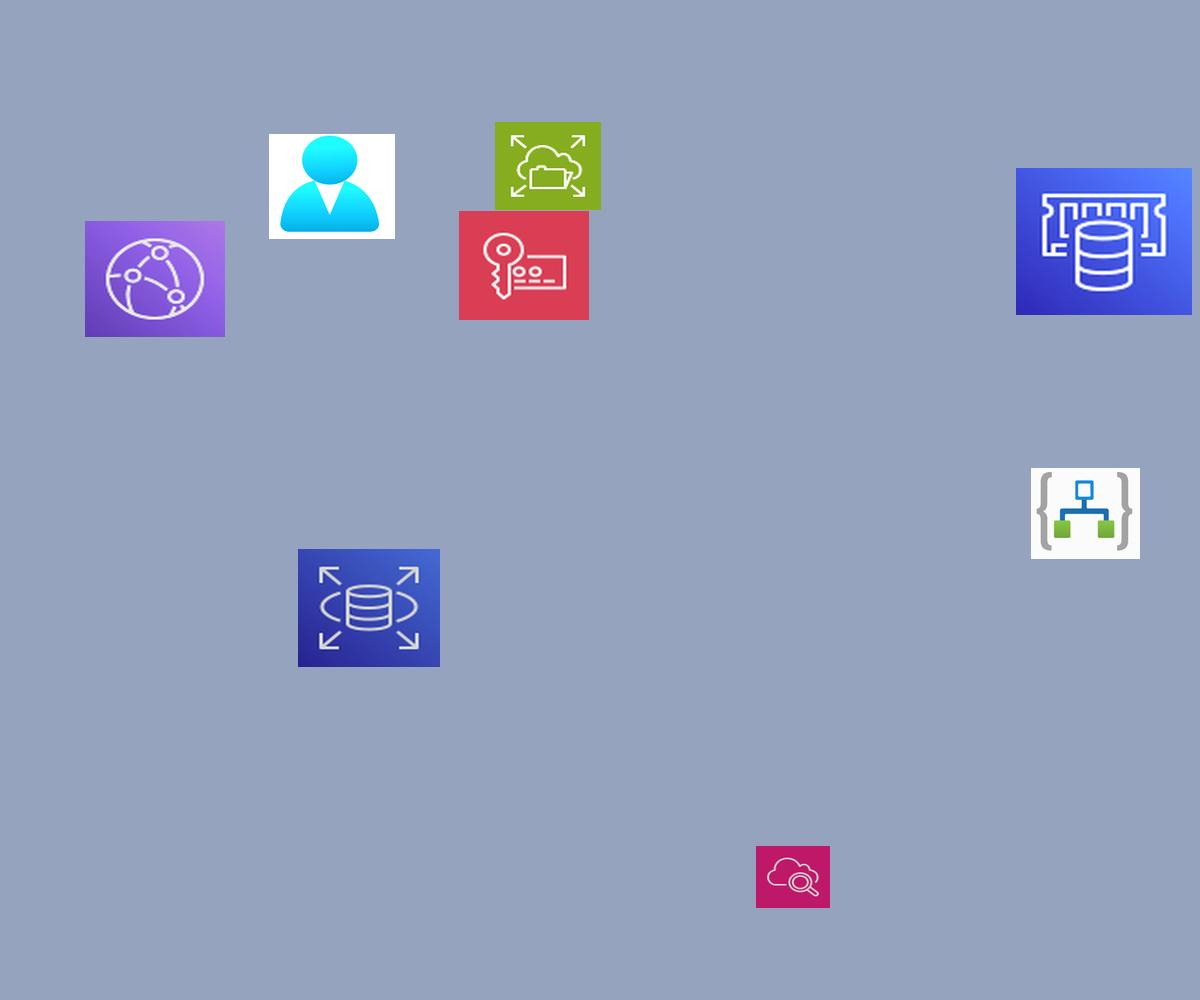AWS-CloudFront: (85, 221, 225, 337)
AWS-CloudWatch: (756, 846, 830, 908)
AWS-EFS: (495, 122, 601, 210)
AWS-ElastiCache: (1016, 168, 1192, 315)
AWS-Key-Management-Service: (459, 211, 589, 320)
AWS-RDS: (298, 549, 440, 667)
Azure_integration-204-Logic-Apps: (1031, 468, 1140, 559)
Azure_users: (269, 134, 395, 239)
